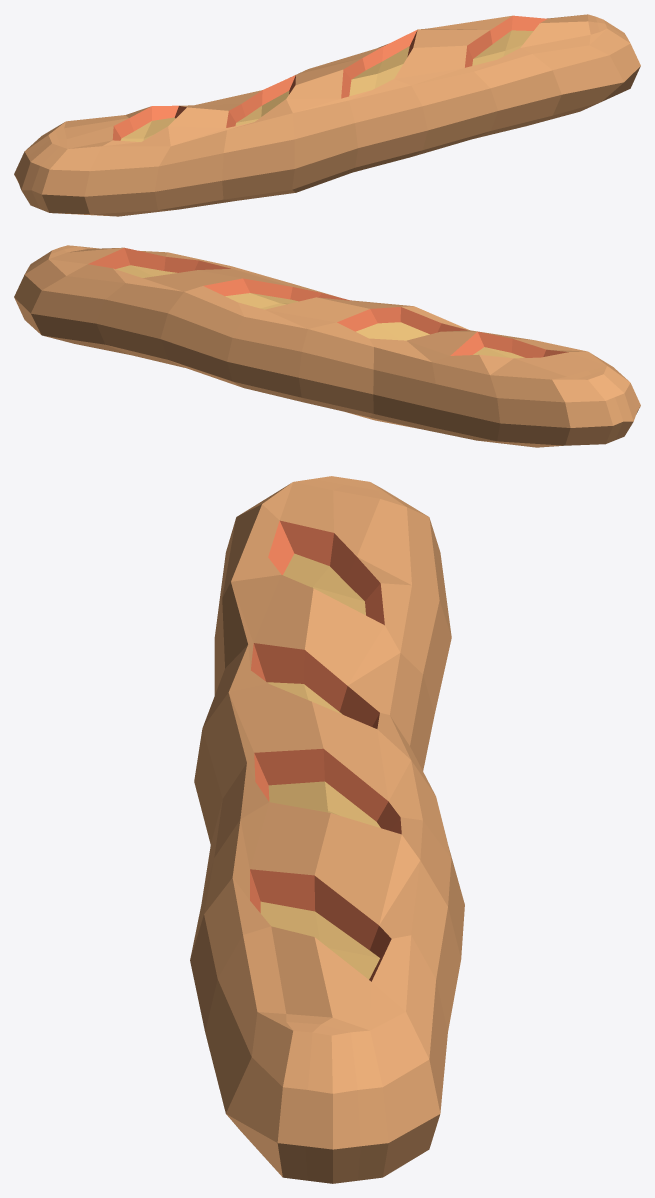
The model's file is baguette_2.fbx.
3 renders of one model, top to bottom at view 1: azimuth 30°, elevation 25°; view 2: azimuth 150°, elevation 25°; view 3: azimuth 270°, elevation 25°, orthographic. The views are drawn at different scales.
Parts seen in each view (by area): view 1: baguette; view 2: baguette; view 3: baguette.
Part boxes in pixels (left/top/right/bottom): baguette: left=14, top=14, right=640, bottom=216; baguette: left=14, top=245, right=640, bottom=447; baguette: left=190, top=476, right=464, bottom=1183.
Bounding box in the file's own units: 791 × 119 × 154.
